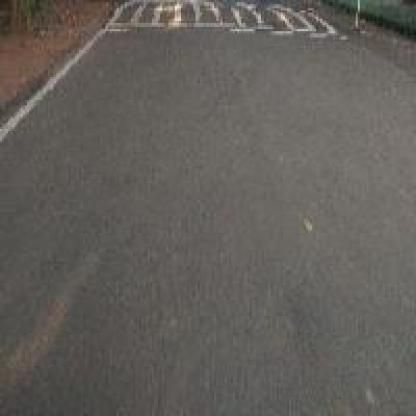Speed Bump: (100, 0, 349, 42)
